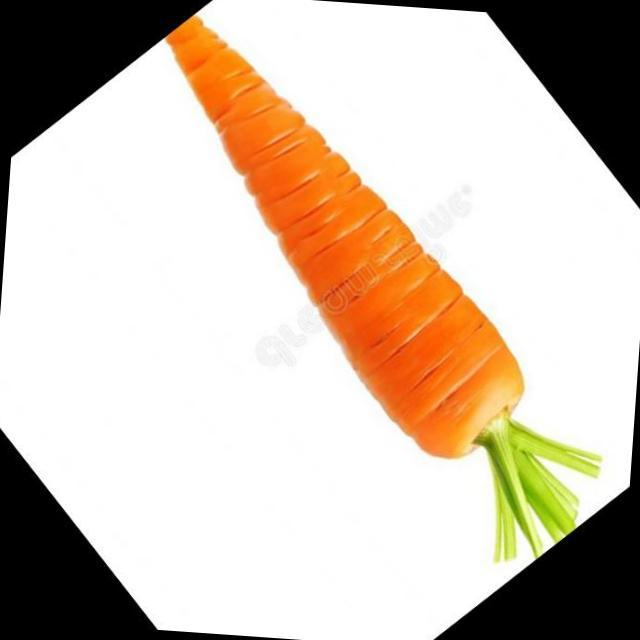carrot: (74, 0, 603, 523)
